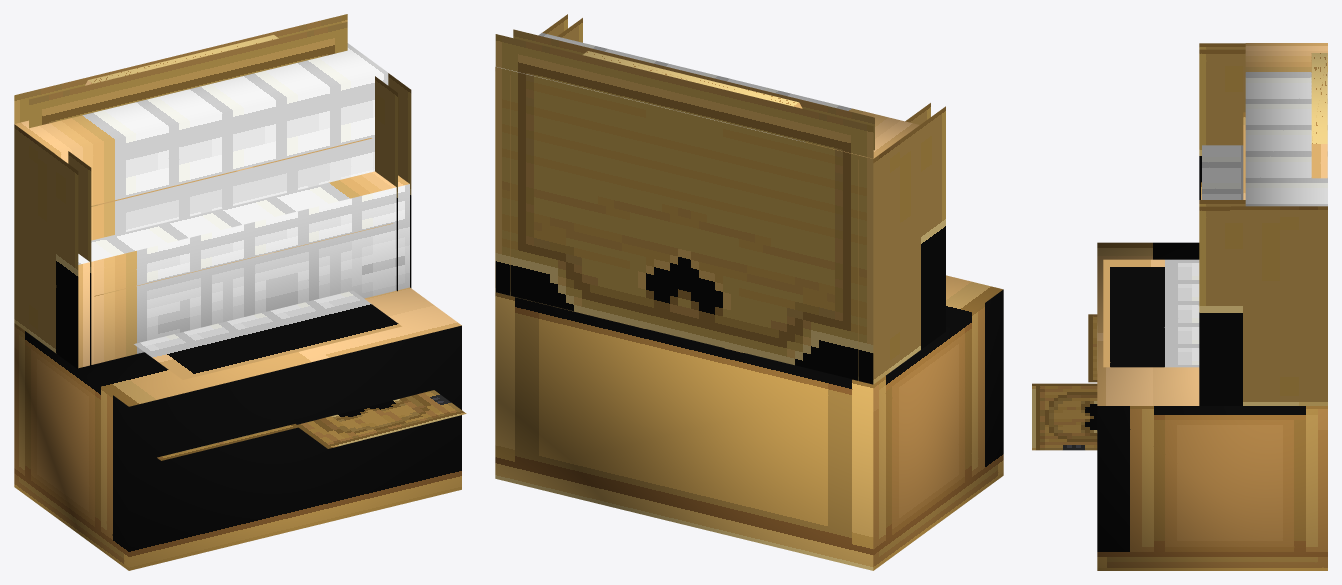
The picture shows the model from 3 angles, left to right: view 1: azimuth 30°, elevation 25°; view 2: azimuth 150°, elevation 25°; view 3: azimuth 270°, elevation 25°; orthographic projection. The views are drawn at different scales.
Parts seen in each view (by area): view 1: 3067IMRL04_08; view 2: 3067IMRL04_08; view 3: 3067IMRL04_08.
Part boxes in pixels (<box>): 3067IMRL04_08: <box>14,14,466,570</box>; 3067IMRL04_08: <box>495,14,1003,570</box>; 3067IMRL04_08: <box>1032,43,1327,570</box>.
Bounding box in the file's own units: 1.68 × 1.88 × 1.28.
Materials: 3 (3 with a texture image).
